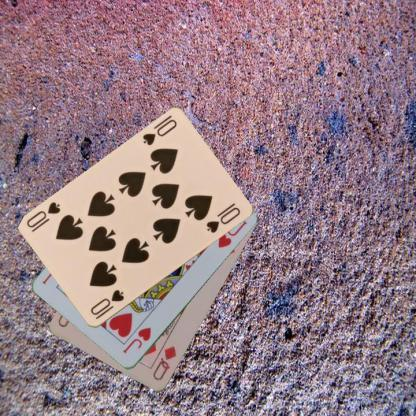10s: (88, 287, 126, 321), (139, 117, 179, 147)
Jh: (120, 325, 152, 355)
Qd: (150, 343, 178, 382)
